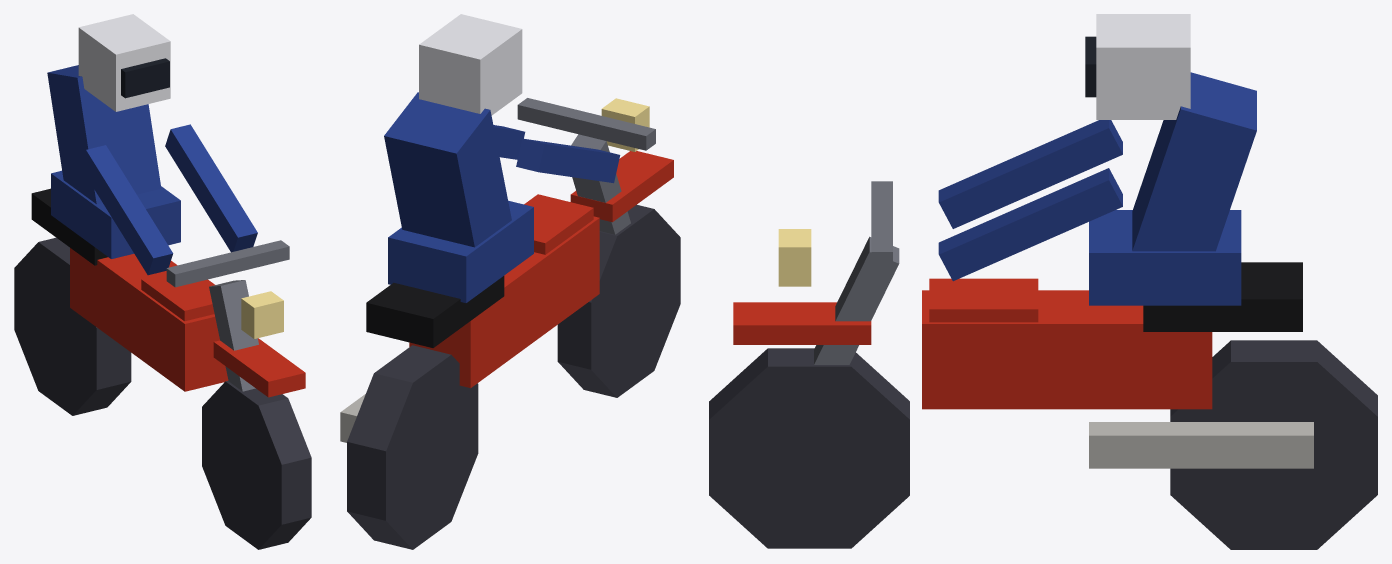
File: bike.obj
3 views of the same model, side by side, from view 1: azimuth 30°, elevation 25°; view 2: azimuth 150°, elevation 25°; view 3: azimuth 270°, elevation 25° (orthographic). The views are drawn at different scales.
Size of the model in its own units: 0.46 by 1.55 by 1.84.
